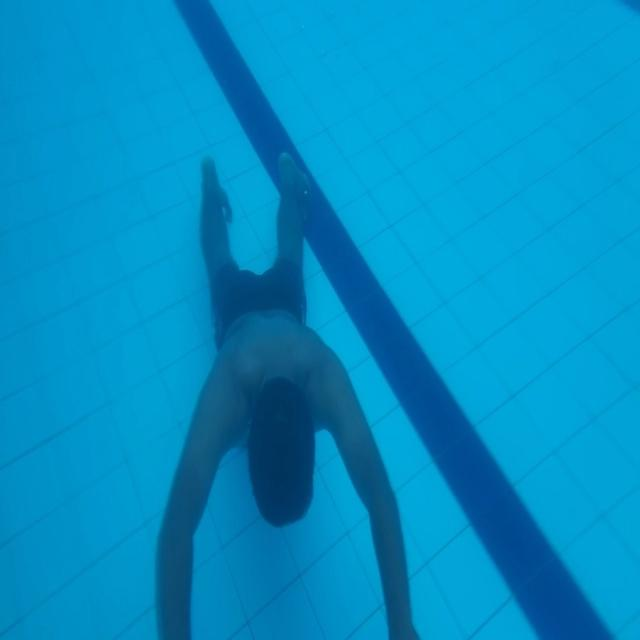Drowning: (154, 156, 422, 640)
